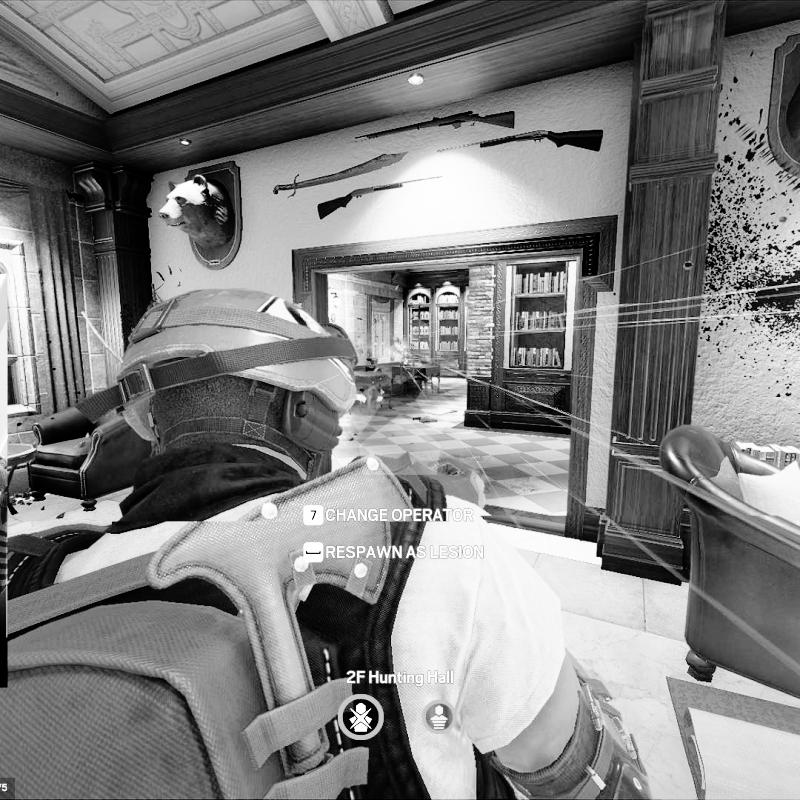Character: (0, 280, 672, 800), (390, 334, 407, 362)
Head: (110, 282, 361, 484), (393, 336, 400, 343)
